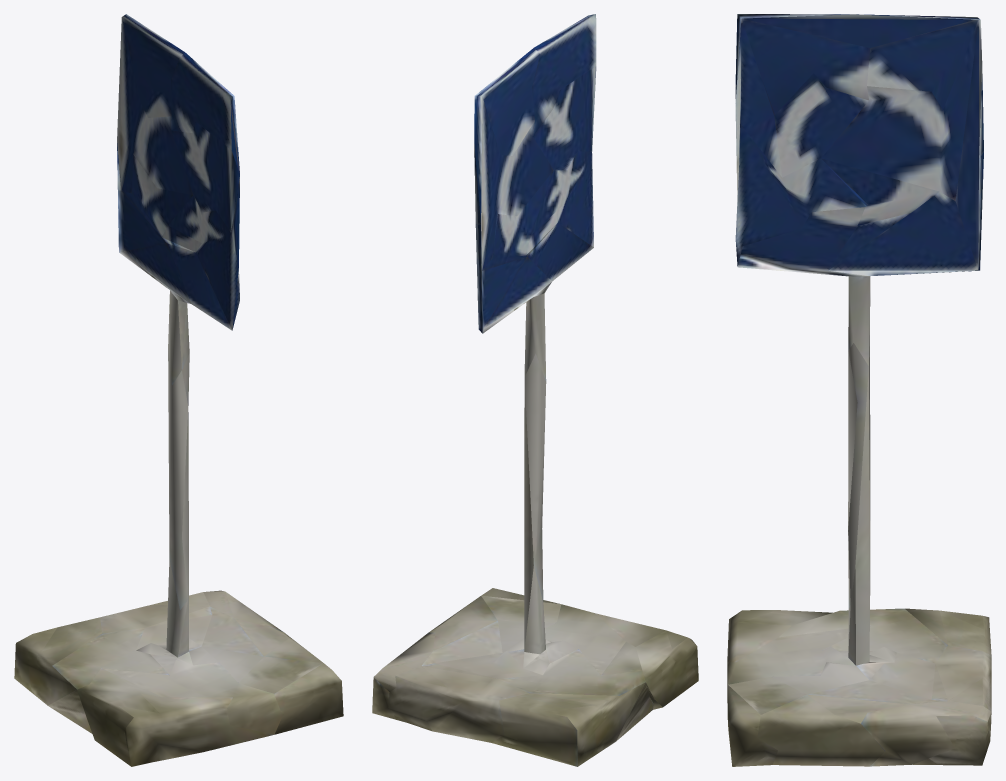
Rendered from rambu_berputar_lod2.glb.
3 renders of one model, left to right at view 1: azimuth 30°, elevation 25°; view 2: azimuth 150°, elevation 25°; view 3: azimuth 270°, elevation 25°, orthographic. The views are drawn at different scales.
Visible parts, largest first — view 1: tripo_node_a61985e5; view 2: tripo_node_a61985e5; view 3: tripo_node_a61985e5.
Boxes of the visible parts, x1,y1,x2,y2 form: tripo_node_a61985e5: [14, 14, 343, 766]; tripo_node_a61985e5: [372, 14, 698, 766]; tripo_node_a61985e5: [727, 14, 991, 766].
Bounding box in the file's own units: 34.45 × 99.89 × 34.27.
1 material, 1 textured.
